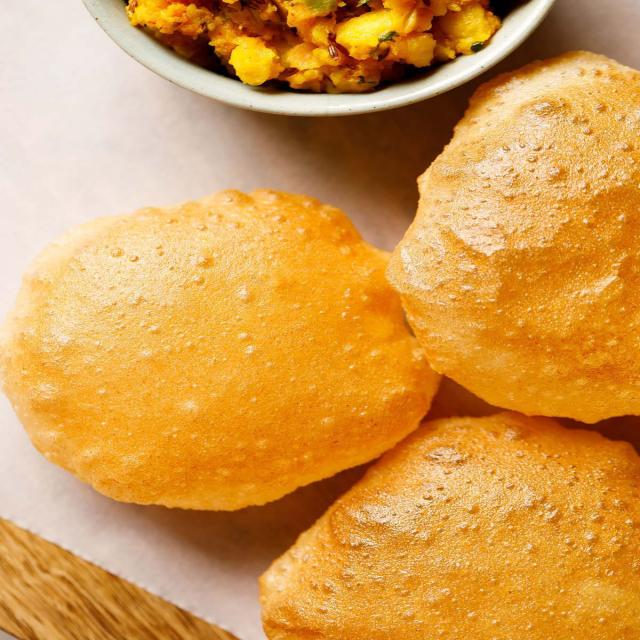poori: (0, 180, 442, 518), (379, 42, 640, 433), (248, 400, 640, 640)
